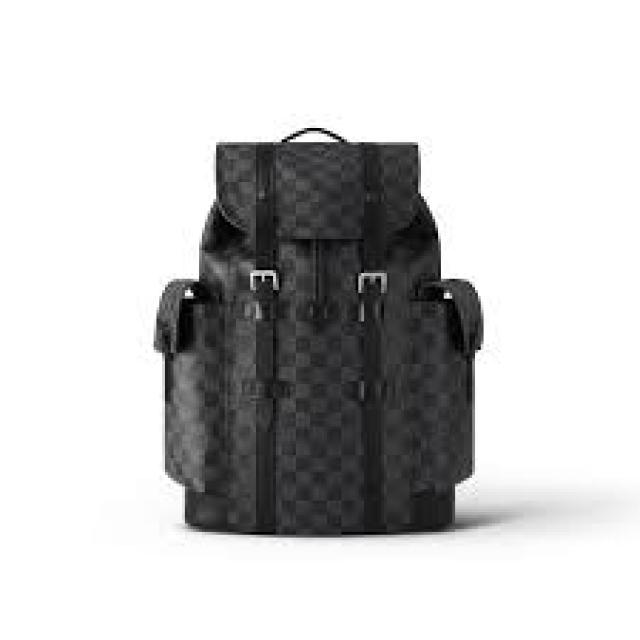backpack: (150, 125, 483, 535)
